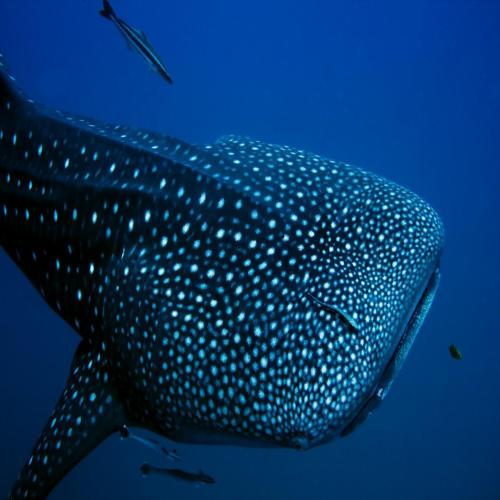shark-endangered: (0, 50, 446, 500)
